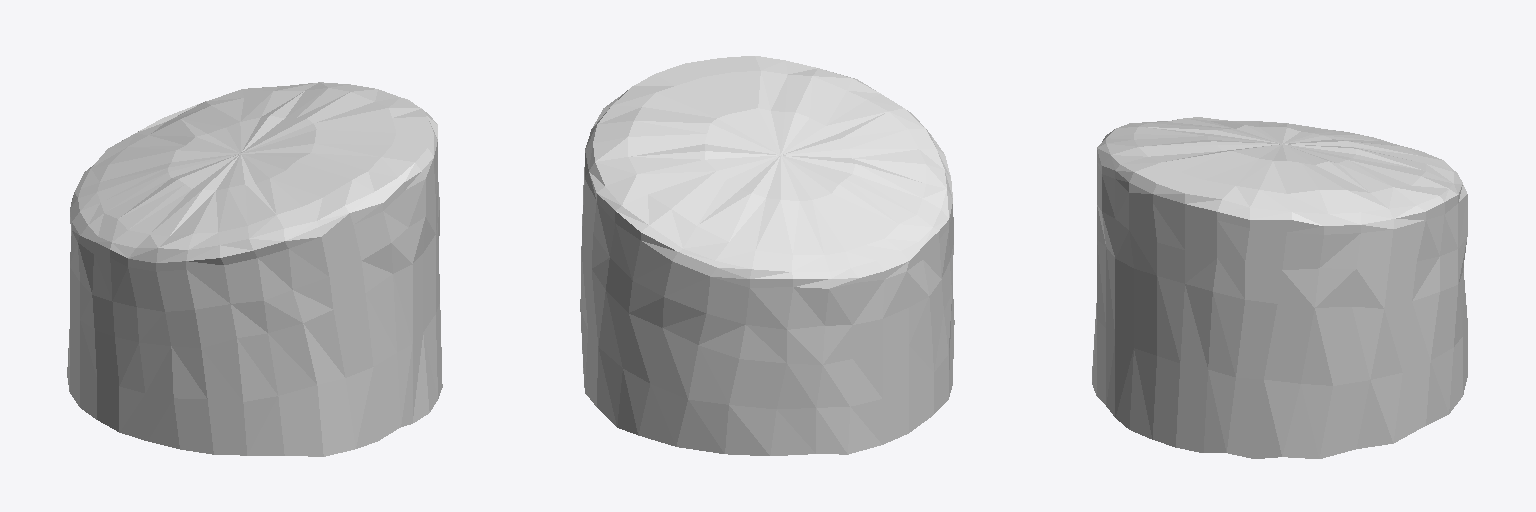
File: right_a_button.obj
The picture shows the model from 3 angles: view 1: azimuth 30°, elevation 25°; view 2: azimuth 150°, elevation 25°; view 3: azimuth 270°, elevation 25°; orthographic projection.
Visible parts, largest first — view 1: right_a_button; view 2: right_a_button; view 3: right_a_button.
Part boxes in pixels (x1,y1,x2,y2): right_a_button: (67, 82, 442, 456); right_a_button: (580, 56, 954, 455); right_a_button: (1092, 117, 1467, 458).
Bounding box in the file's own units: 0.0081 × 0.006 × 0.0081.